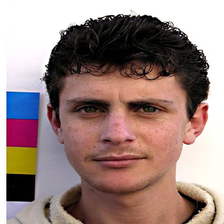no_mask: (55, 70, 202, 190)
